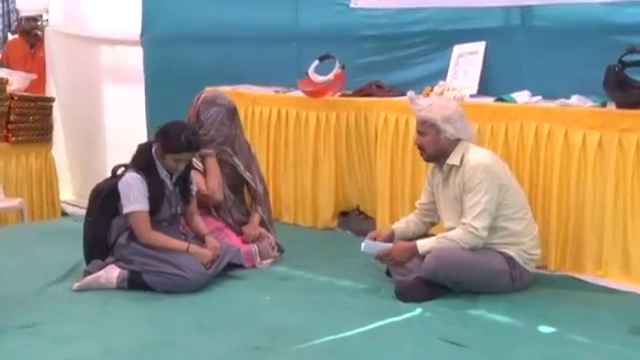helmet: (0, 67, 37, 94)
helmet_off: (403, 98, 471, 169), (188, 92, 242, 160), (149, 119, 204, 183), (7, 7, 44, 44)
person: (360, 90, 555, 306), (76, 123, 226, 296), (170, 85, 278, 269), (0, 5, 46, 96)
